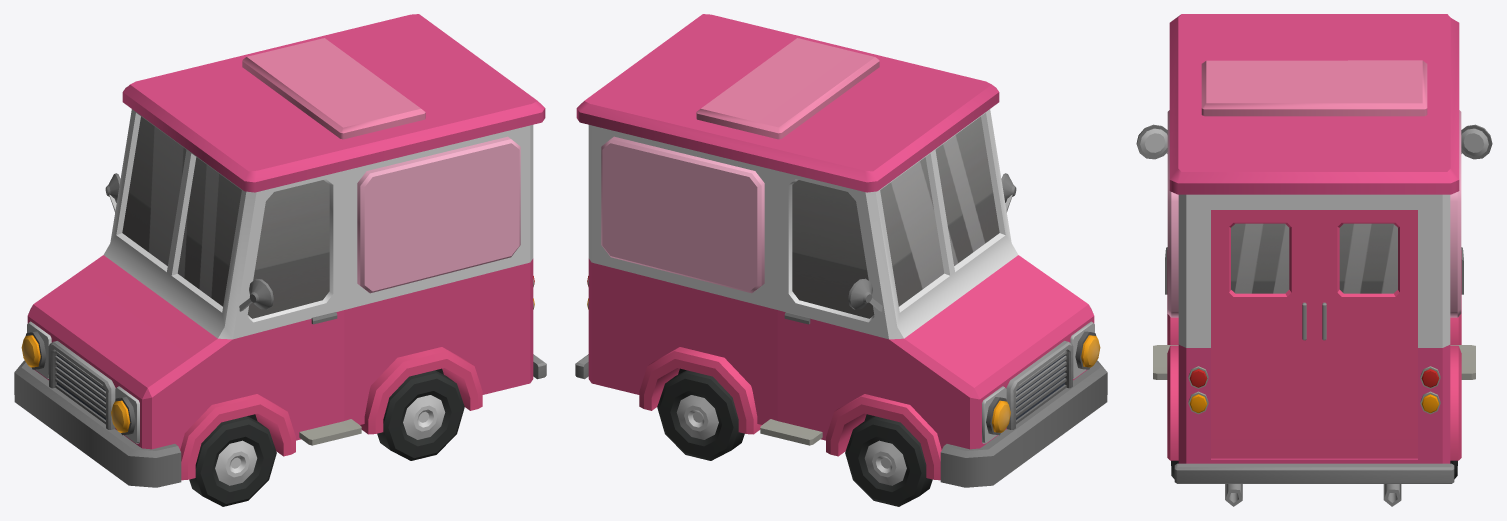
Rendered from Car_14_D.fbx.
3 views of the same model, side by side, from view 1: azimuth 30°, elevation 25°; view 2: azimuth 150°, elevation 25°; view 3: azimuth 270°, elevation 25° (orthographic). The views are drawn at different scales.
Visible parts, largest first — view 1: Car_14_D, RL, FL; view 2: Car_14_D, RR, FR; view 3: Car_14_D.
Part boxes in pixels (x1=…): Car_14_D: x1=14, y1=14, x2=546, y2=487; RL: x1=377, y1=370, x2=464, y2=460; FL: x1=189, y1=416, x2=276, y2=506; Car_14_D: x1=575, y1=14, x2=1107, y2=487; RR: x1=657, y1=370, x2=744, y2=460; FR: x1=845, y1=416, x2=932, y2=506; Car_14_D: x1=1136, y1=14, x2=1492, y2=506.
Bounding box in the file's own units: 275 × 210 × 180.
